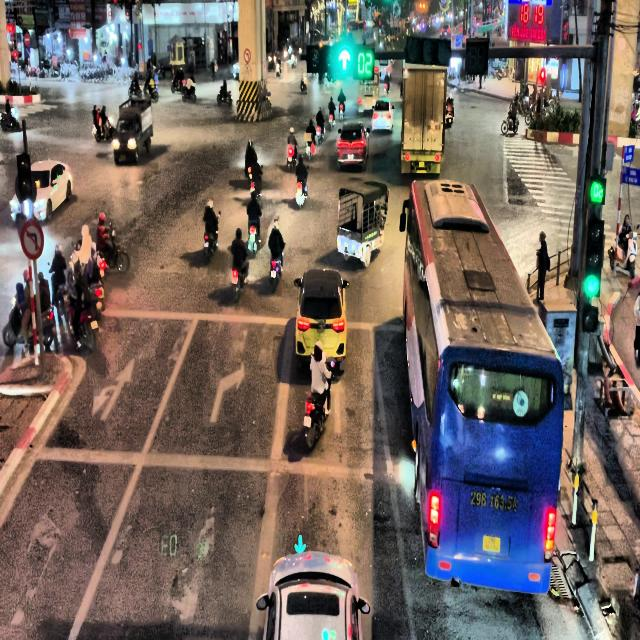lisence_plate: (468, 485, 520, 514), (474, 524, 509, 564), (482, 533, 502, 553)
